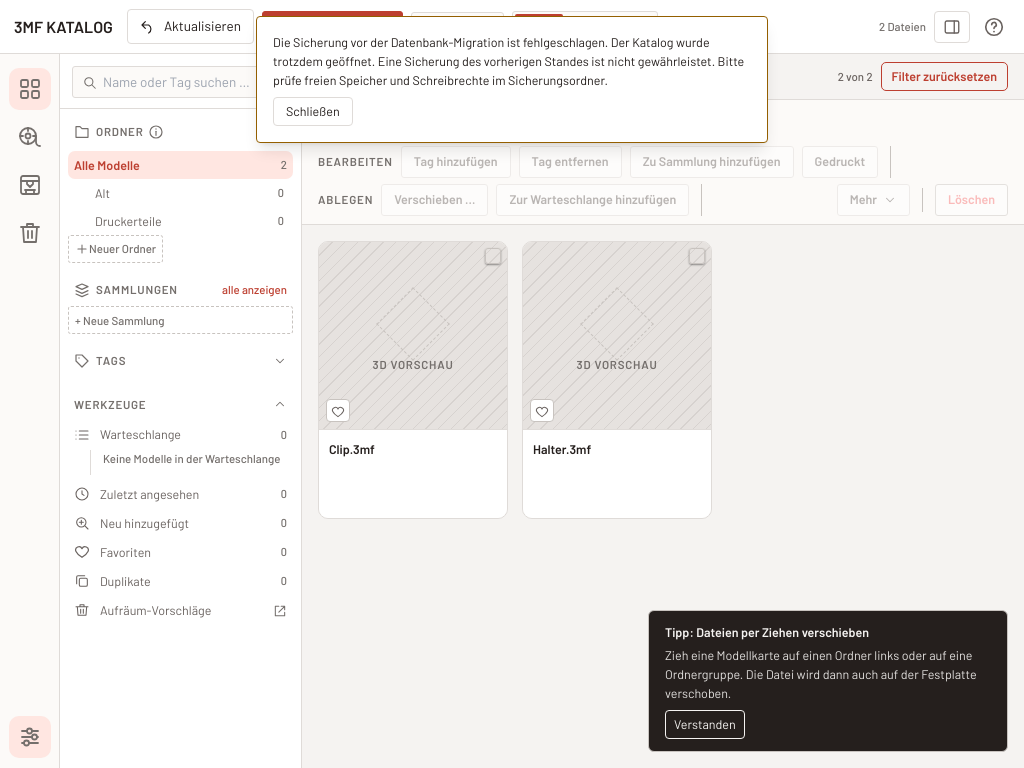
Test: uses the single selected model for M when nothing is ticked
Click the row "3D Vorschau Halter.3mf" at [617, 380], box [522,241,712,519]
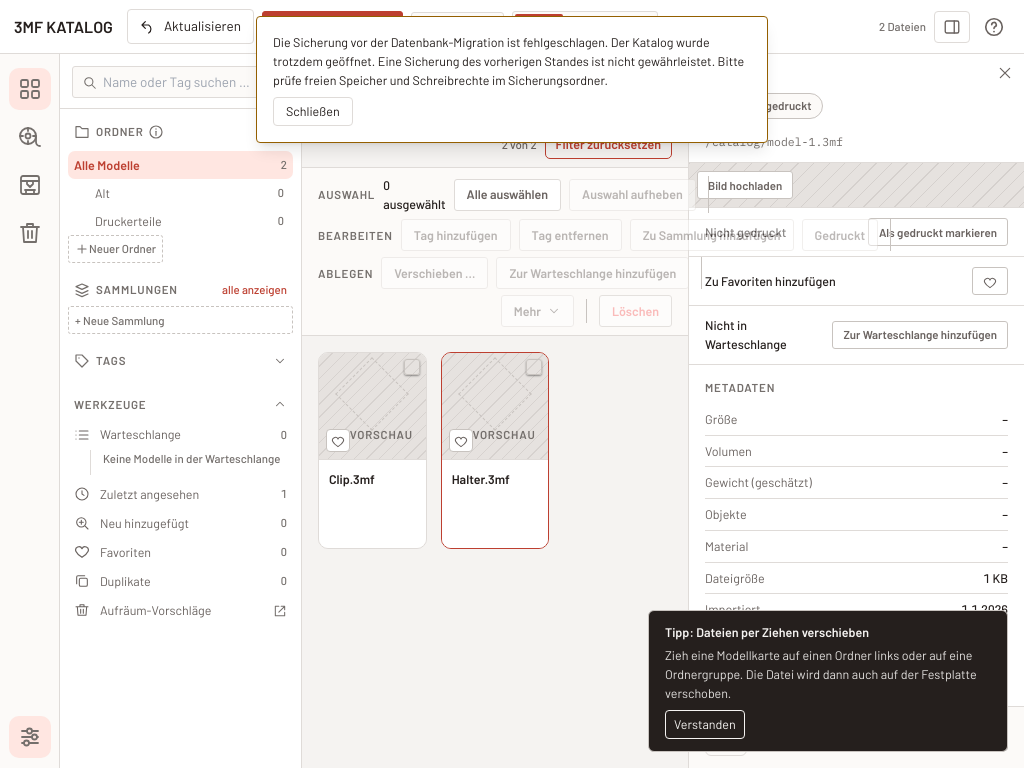
Press m in the row "3D Vorschau Halter.3mf", box [441,352,549,549]
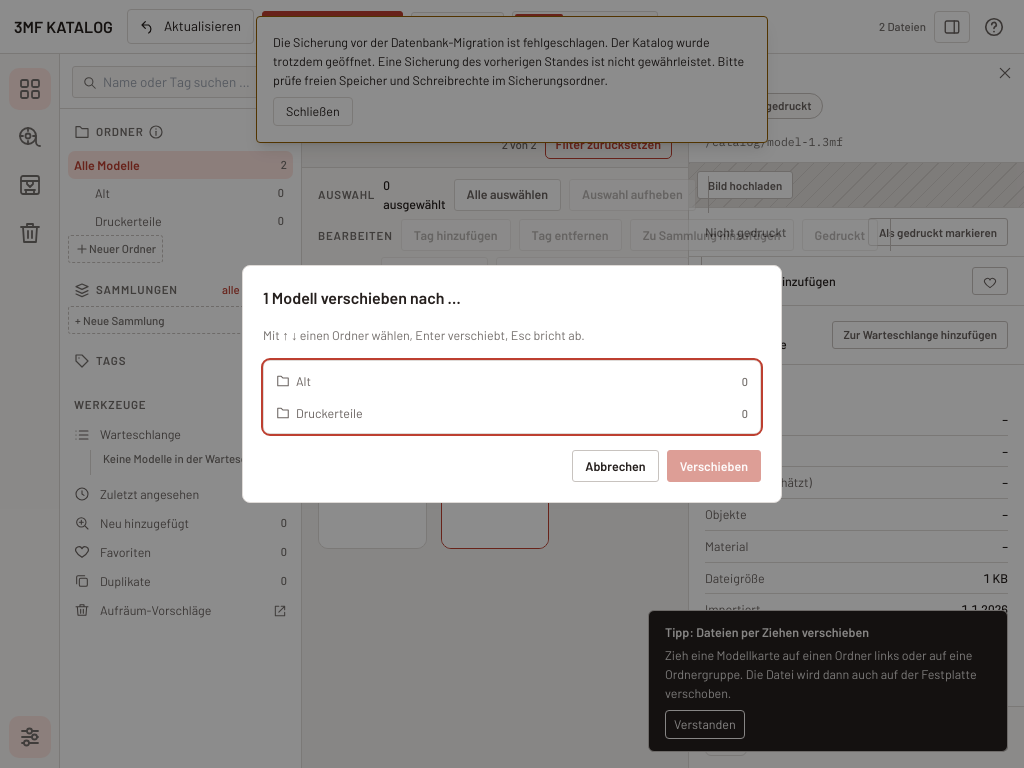
Expected: the dialog "1 Modell verschieben nach …" is shown, [242,265,782,503]
